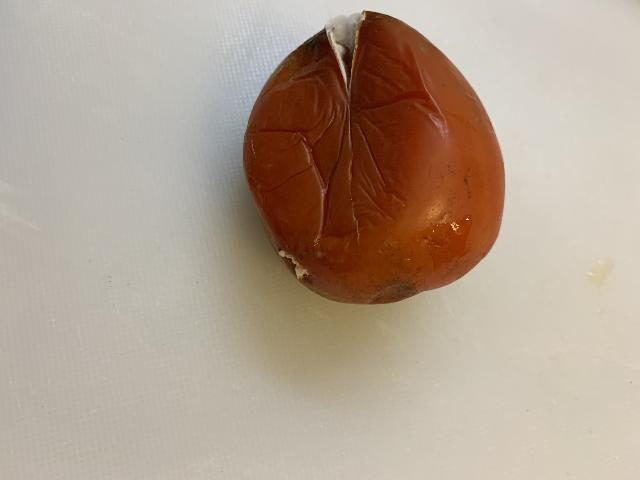defect: (240, 10, 510, 309)
